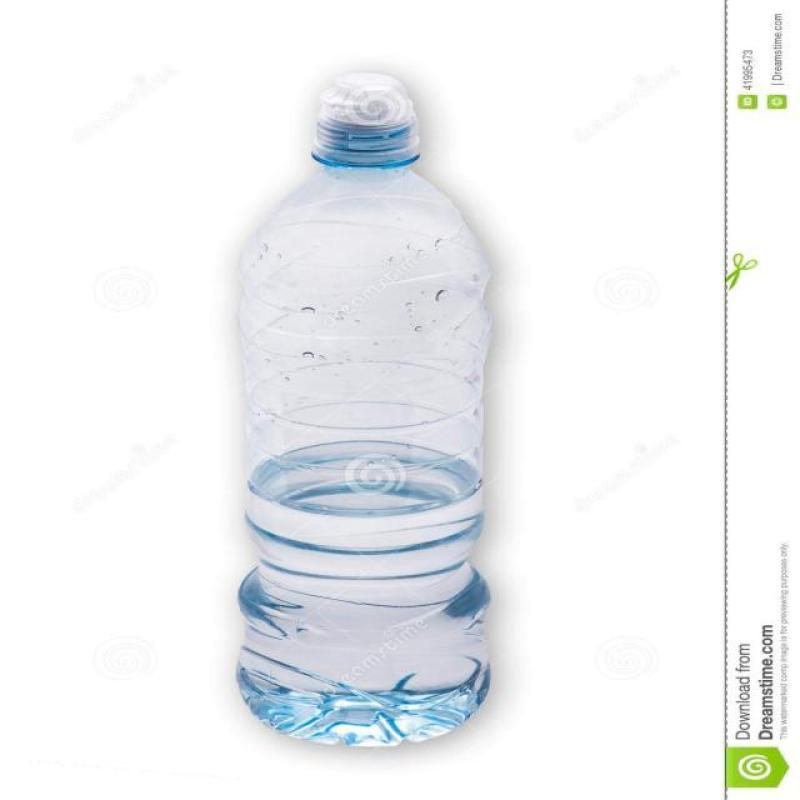botella: (232, 72, 499, 751)
